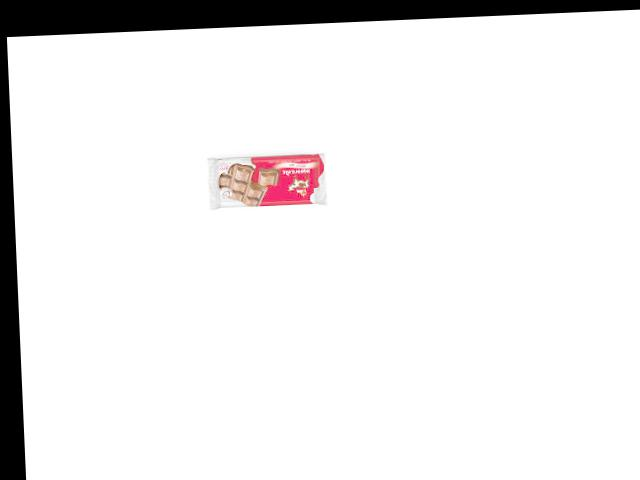chocolate: (203, 152, 328, 211)
